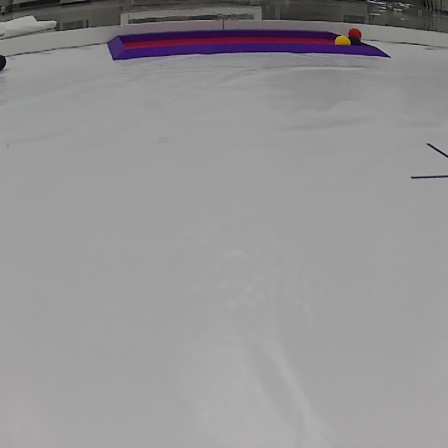black: (348, 34, 361, 44)
red: (350, 27, 364, 35)
red_aim: (106, 32, 393, 58)
yellow: (336, 35, 348, 44)
